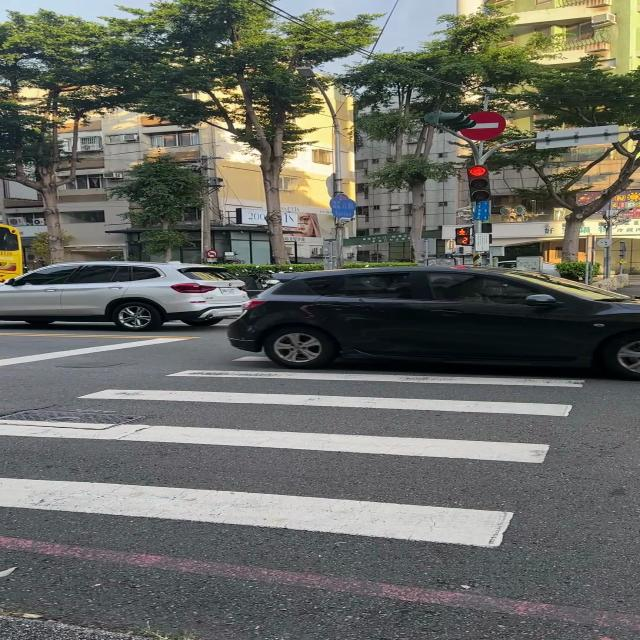bus: (0, 225, 24, 281)
car: (227, 266, 640, 378), (0, 261, 247, 331)
crosswalk: (0, 355, 590, 548)
